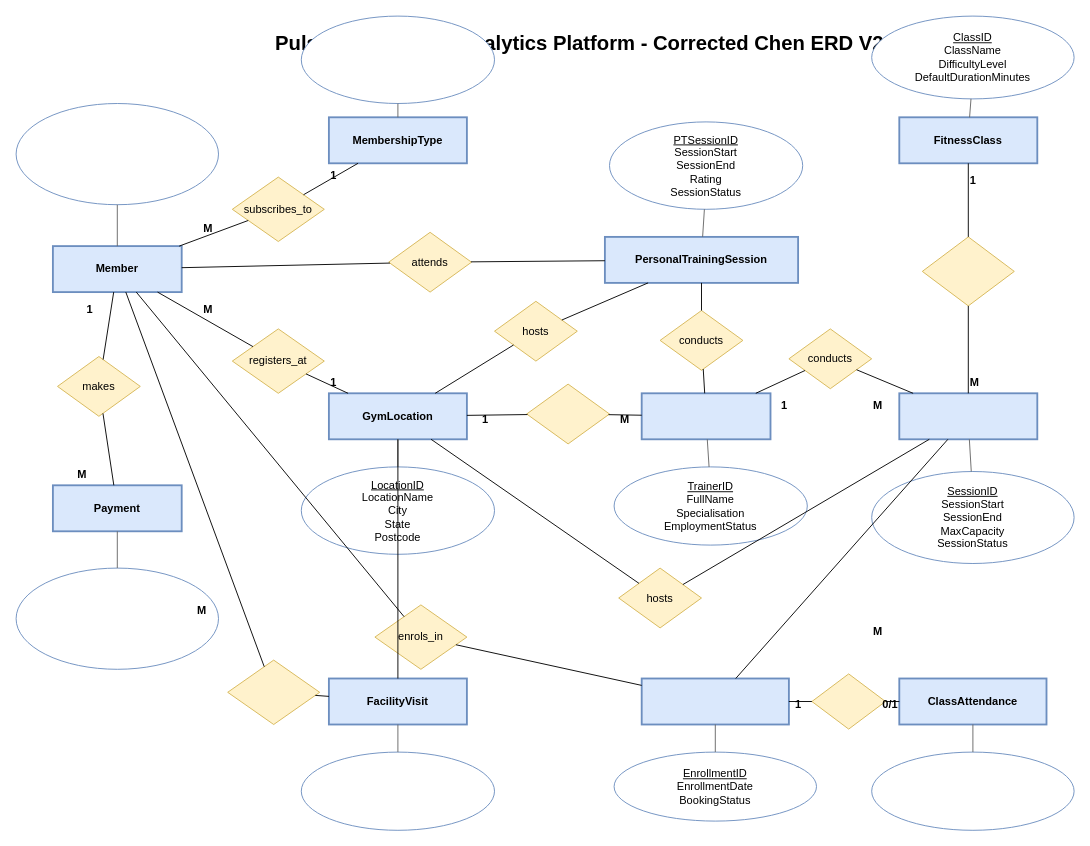
The diagram is 1090 pixels wide and 846 high, and some of its shapes have lost their labels. Each missing label, with the box of its shape:
AttendanceID AttendanceStatus CheckInTime CheckOutTime: (871, 751, 1074, 830)
checks_in: (227, 659, 320, 724)
ClassEnrollment: (640, 677, 789, 725)
ClassSession: (898, 392, 1038, 440)
employs: (526, 383, 610, 444)
MemberID FullName Email JoinDate MemberStatus: (15, 103, 218, 205)
MembershipTypeID TypeName PricePerMonth ClassLimitPerWeek IncludesFreePT: (300, 15, 494, 104)
PaymentID PaymentDate Amount PaymentMethod PaymentStatus PaymentCategory: (15, 567, 218, 669)
records: (811, 673, 886, 729)
scheduled_as: (921, 236, 1014, 306)
Trainer: (640, 392, 771, 440)
VisitID CheckInTime CheckOutTime FacilityUsed: (300, 751, 494, 830)
